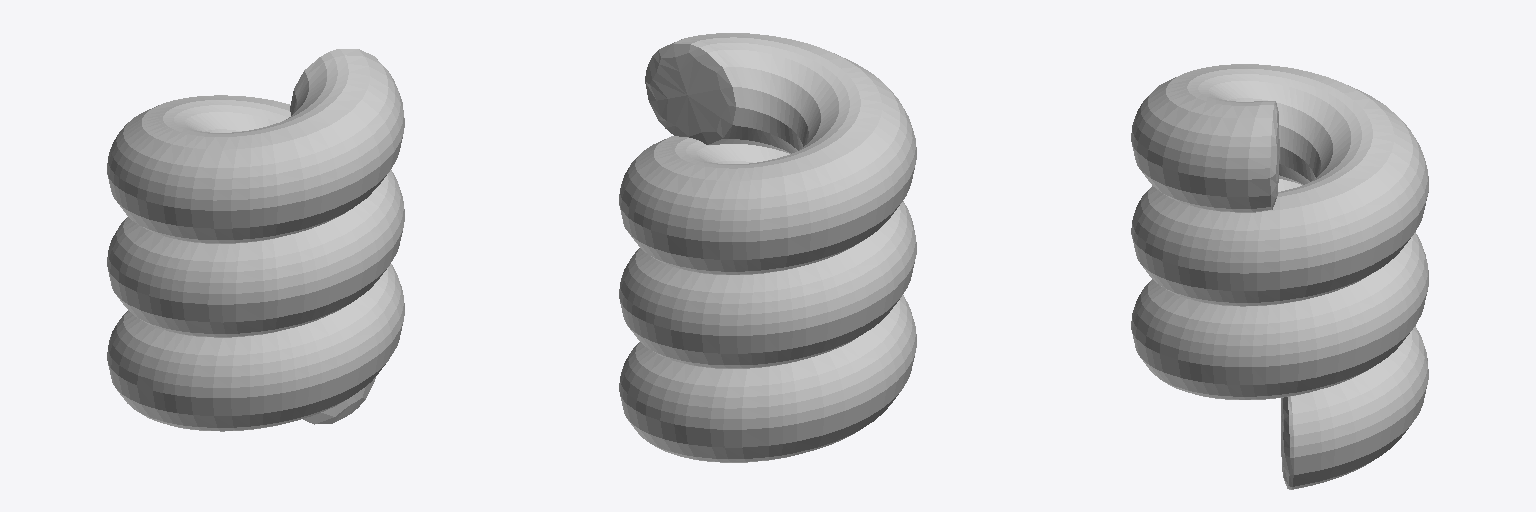
The model's file is helix_82.5.obj.
3 views of the same model, side by side, from view 1: azimuth 30°, elevation 25°; view 2: azimuth 150°, elevation 25°; view 3: azimuth 270°, elevation 25° (orthographic).
Parts seen in each view (by area): view 1: helix:pHelix1; view 2: helix:pHelix1; view 3: helix:pHelix1.
Part boxes in pixels (x1,y1,x2,y2): helix:pHelix1: (107,49,404,431); helix:pHelix1: (619,33,916,462); helix:pHelix1: (1131,64,1428,489).
Bounding box in the file's own units: 1.92 × 2.7 × 1.92.